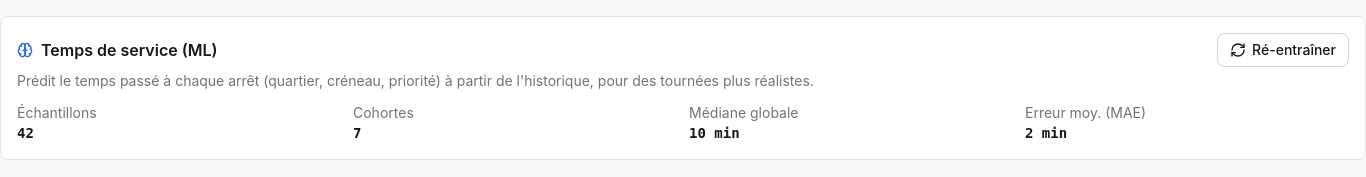
Scenario: ServiceTimePanel › shows the trained model summary and retrains
Expected: the text "42" is shown, [17,125,34,141]
Expected: the text "10 min" is shown, [689,125,740,141]
Click the button "Ré-entraîner": (1283, 50) [1217,33,1349,67]
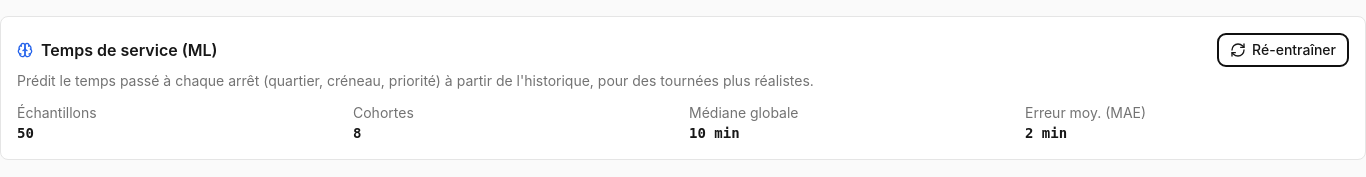
Expected: the text "50" is shown, [17,125,34,141]
